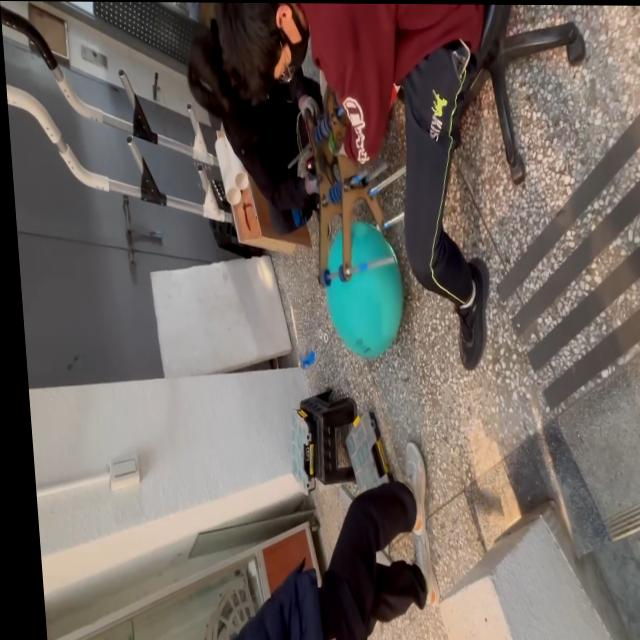ALGAE: (319, 218, 410, 361)
